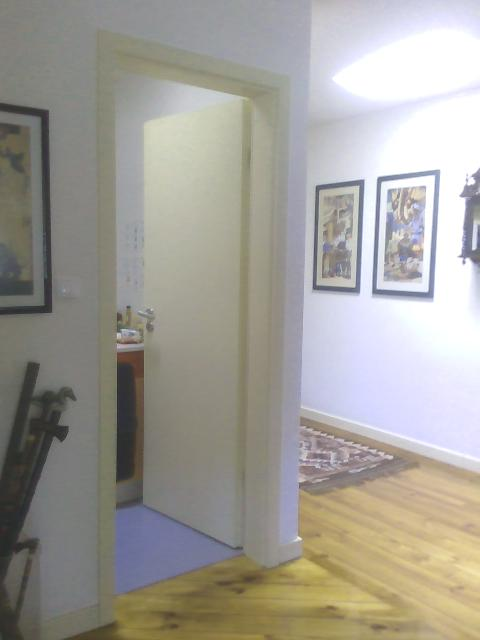open_door: (98, 28, 293, 625)
